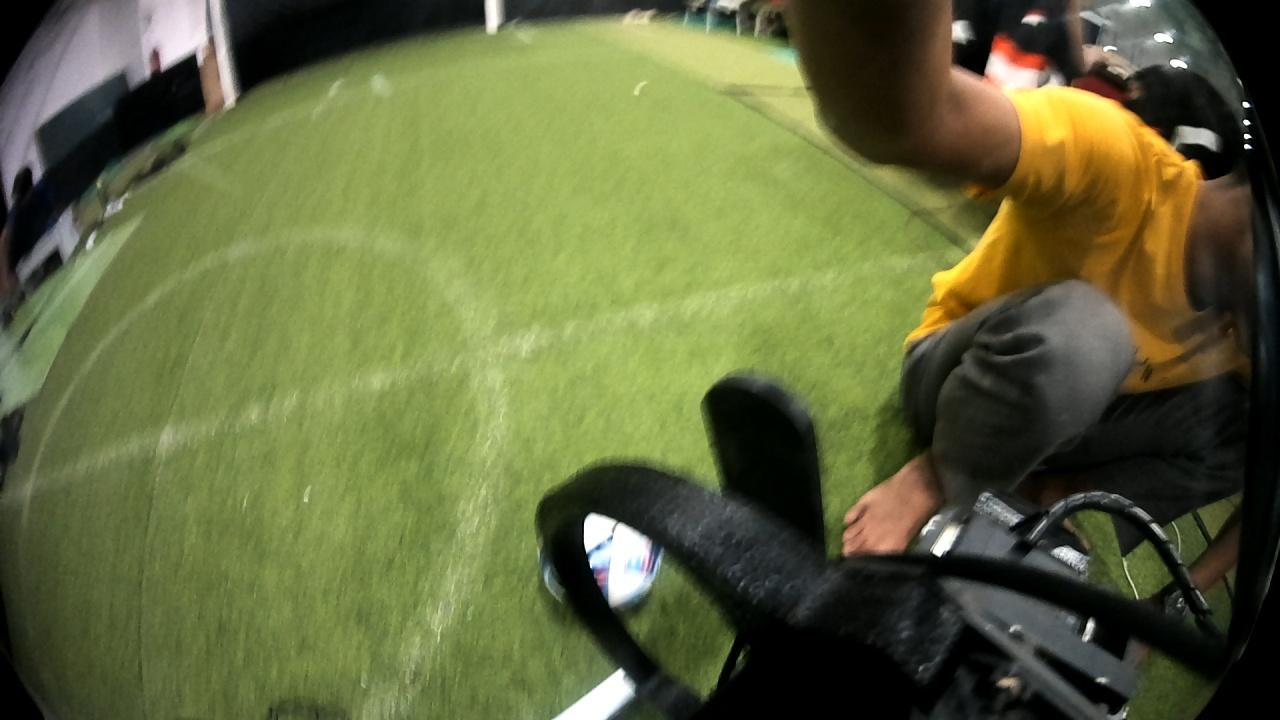ball: (531, 482, 671, 616)
